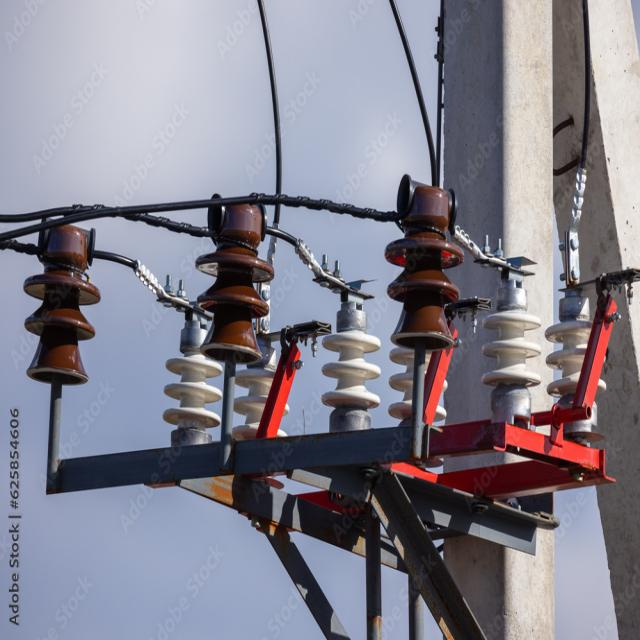insulator: (16, 215, 104, 435), (196, 200, 289, 381), (392, 176, 467, 392), (318, 312, 382, 443), (475, 290, 532, 418), (164, 340, 228, 440)
